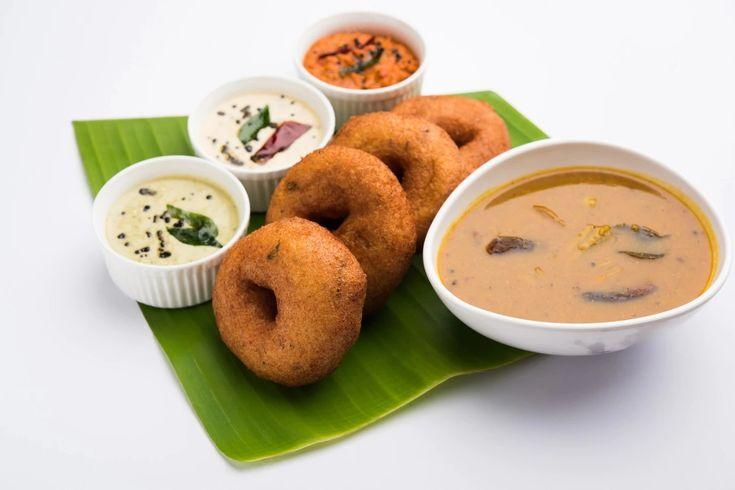coconut chutney: (99, 176, 236, 267), (195, 90, 328, 165)
medu vada: (225, 155, 414, 381), (352, 102, 504, 194)
sambhar: (456, 176, 716, 330)
